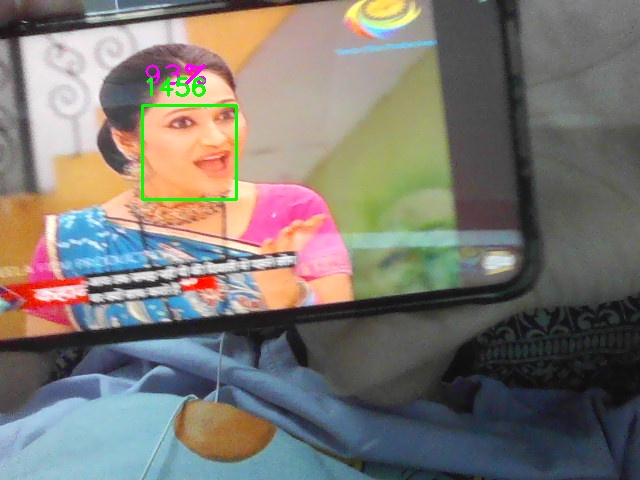fake: (142, 105, 237, 200)
